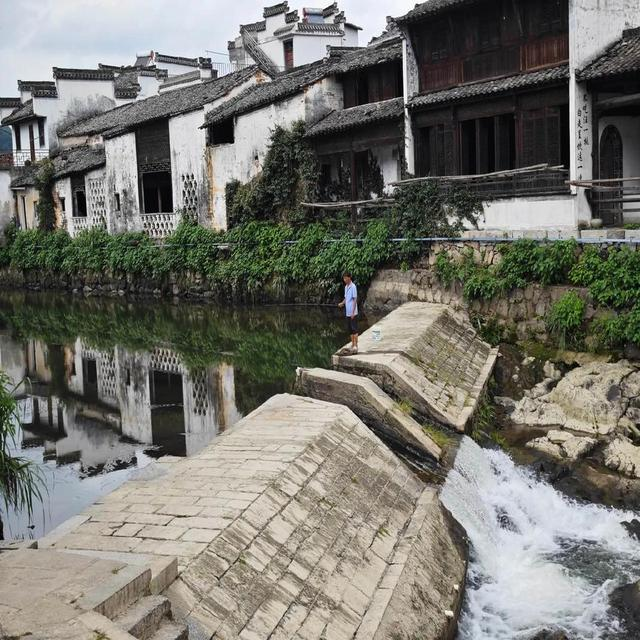Person-RiskLevel1: (325, 270, 385, 360)
